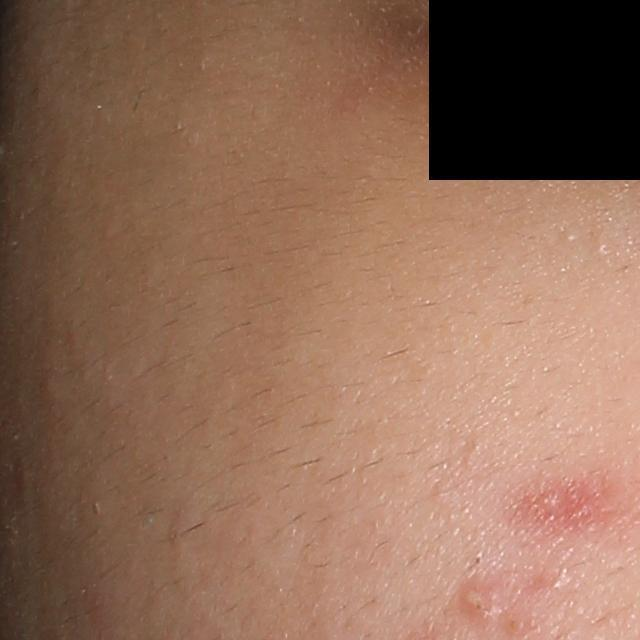pustule: (455, 577, 505, 625)
